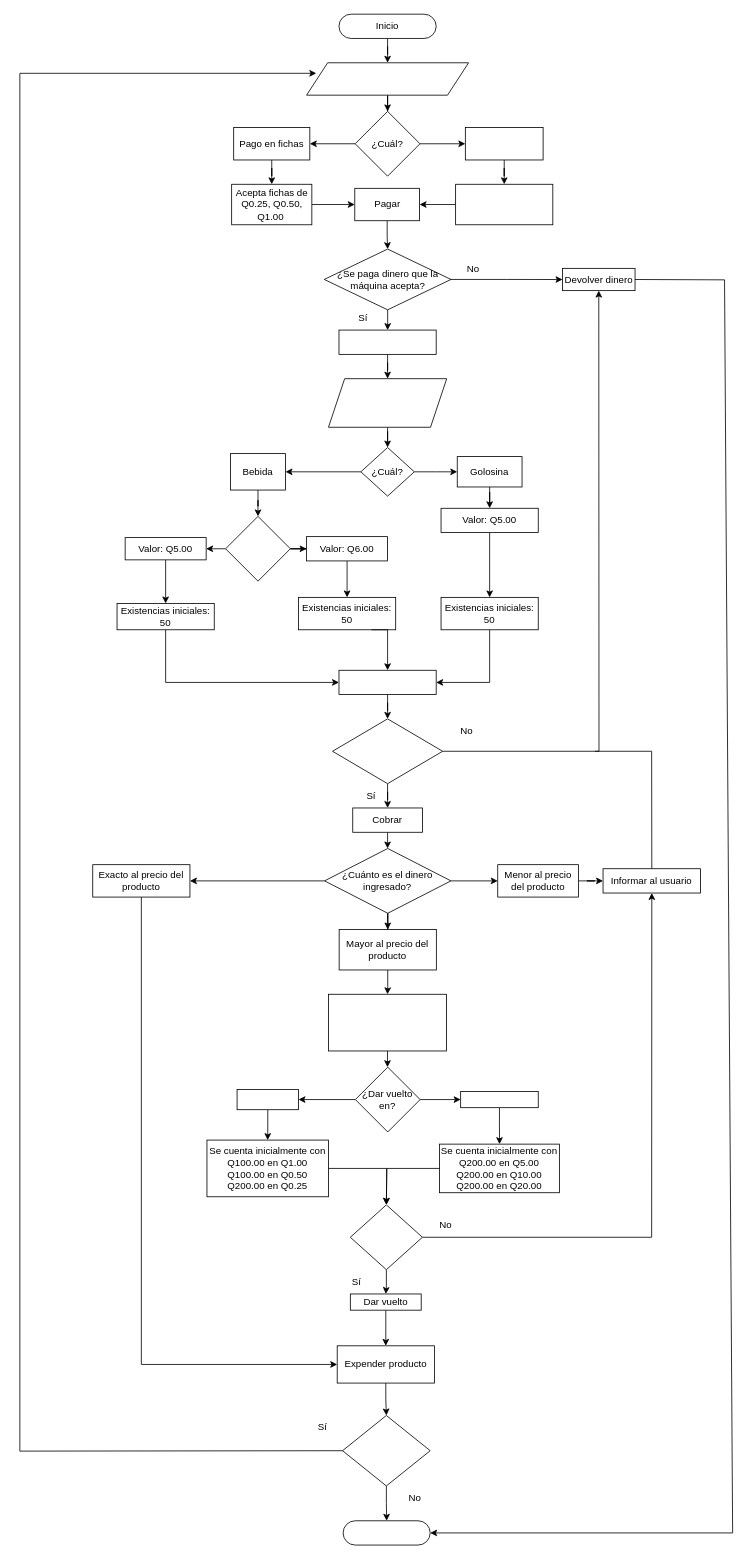
Some shapes in this 753 by 1559 pixel diagram are drawn without their labels. The shapes that lost their labels are listed below. From the top down, each one's box as (x1, y1, x2, y2) in pixels, then its label:
(306, 62, 469, 95): Selección de método de pago
(465, 127, 543, 160): Pago en billetes
(455, 183, 553, 225): Acepta billetes de Q5.00, Q10.00, Q20.00, Q50.00
(338, 329, 436, 354): Dinero aceptado
(328, 378, 447, 427): Seleccionar producto deseado
(225, 516, 290, 581): ¿Tipo de bebida?
(338, 669, 436, 695): Seleccionar
(332, 718, 443, 784): ¿El producto está disponible?
(328, 993, 447, 1051): Dar vuelto (Vuelto = dinero ingresado - precio del producto)
(236, 1089, 298, 1110): Monedas:
(460, 1091, 538, 1108): Billetes
(350, 1204, 422, 1270): ¿Hay vuelto disponible?
(342, 1415, 430, 1486): ¿Se desea otro producto?
(342, 1520, 430, 1545): Fin
